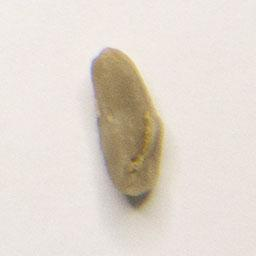defect: (87, 43, 170, 201)
